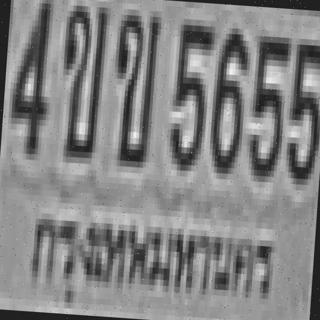A02: (55, 0, 108, 152), (108, 9, 159, 162)
N04: (6, 0, 51, 148)
N05: (165, 18, 213, 166), (245, 29, 289, 177), (283, 32, 320, 180)
N06: (207, 21, 248, 168)
P04: (21, 202, 280, 320)
